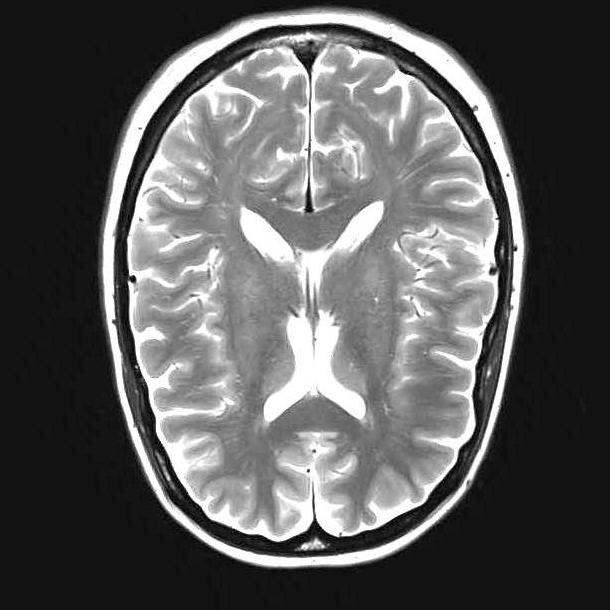Normal_Brain: (2, 1, 610, 610)
